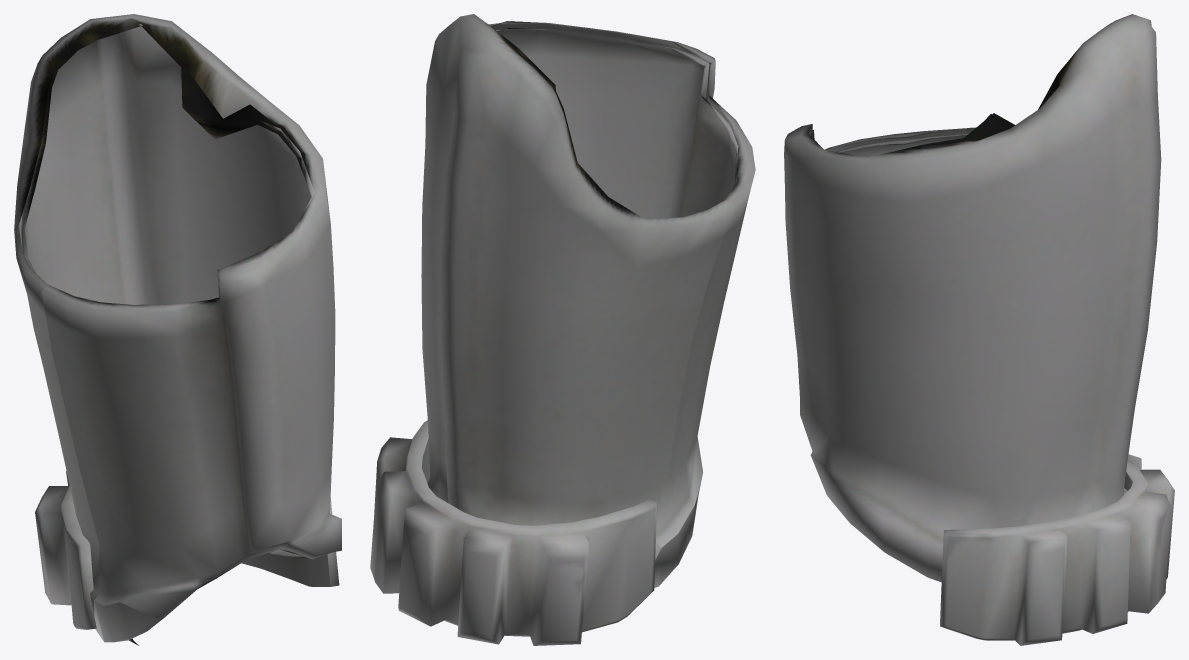
The model's file is Stormtrooper_UpperLegR.fbx.
3 renders of one model, left to right at view 1: azimuth 30°, elevation 25°; view 2: azimuth 150°, elevation 25°; view 3: azimuth 270°, elevation 25°, orthographic. The views are drawn at different scales.
Visible parts, largest first — view 1: UpperLegR; view 2: UpperLegR; view 3: UpperLegR.
Part boxes in pixels (x1,y1,x2,y2): UpperLegR: (14,14,341,645); UpperLegR: (370,14,755,645); UpperLegR: (784,14,1174,645).
Bounding box in the file's own units: 0.2738 × 0.4851 × 0.3016.
